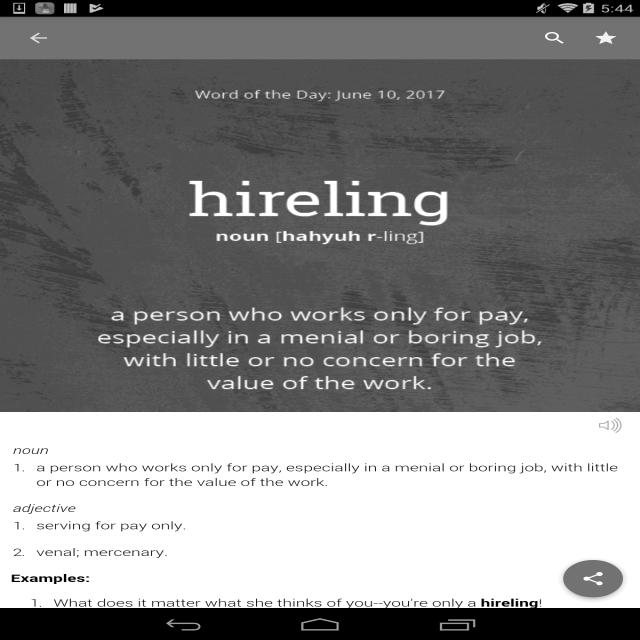ImageButton: (550, 548, 636, 609), (9, 17, 68, 59)
ImageView: (0, 59, 640, 412), (589, 412, 631, 439)
TextView: (580, 22, 632, 54), (529, 22, 580, 54)
